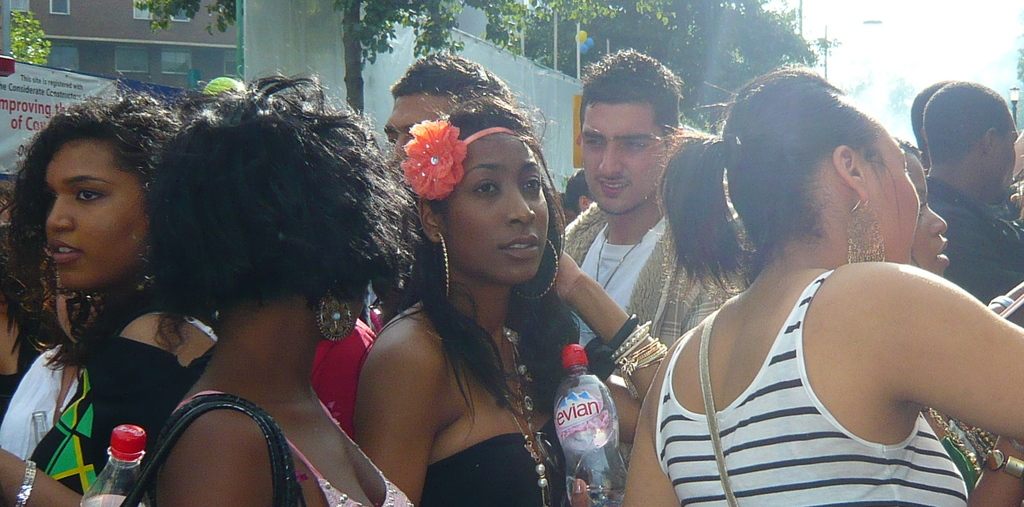face: (843, 158, 955, 277)
